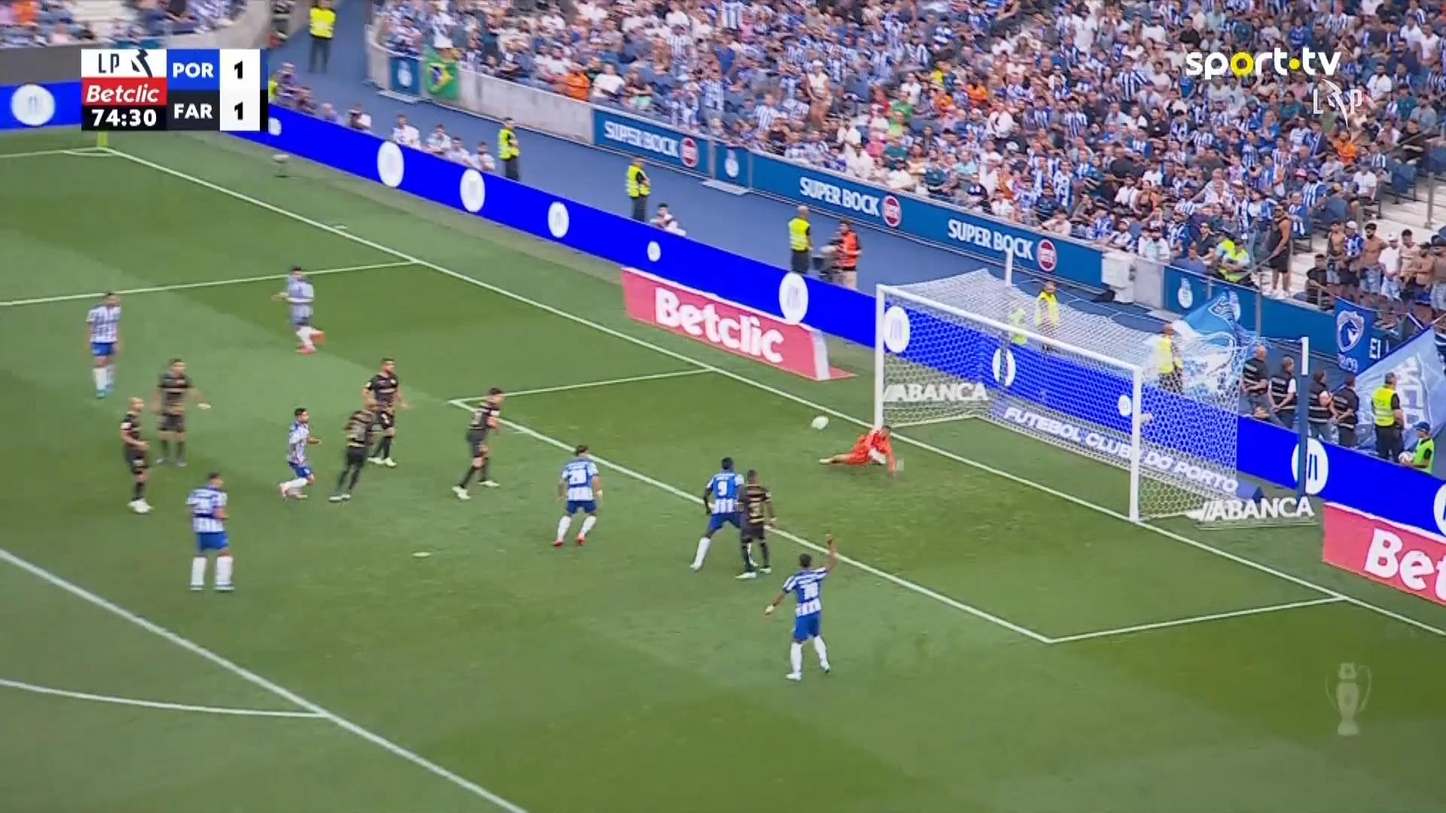ball: (810, 415, 828, 430)
goalkeeper: (817, 423, 897, 474)
player: (762, 532, 837, 681), (688, 455, 756, 572), (150, 357, 210, 467), (450, 385, 505, 500), (185, 470, 235, 592), (328, 394, 380, 501), (551, 443, 603, 547), (361, 357, 408, 467), (734, 468, 777, 578), (271, 264, 319, 354), (277, 406, 322, 501), (118, 395, 154, 513), (84, 290, 122, 398)
